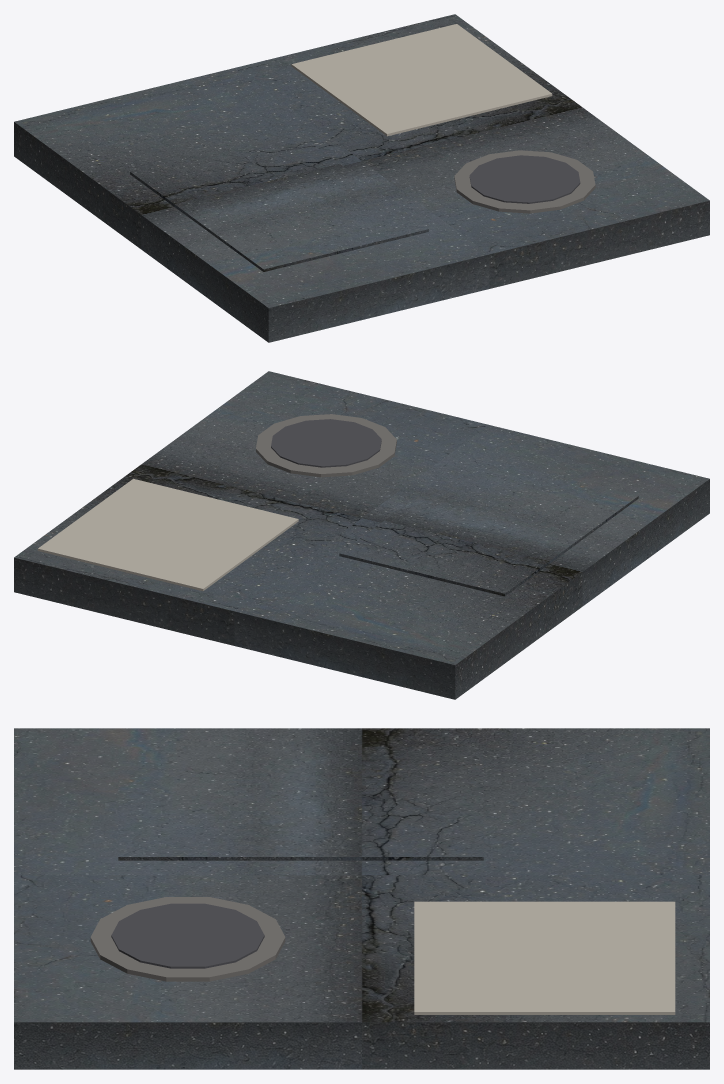
File: env_street_slab_c.glb
3 renders of one model, top to bottom at view 1: azimuth 30°, elevation 25°; view 2: azimuth 150°, elevation 25°; view 3: azimuth 270°, elevation 25°, orthographic. The views are drawn at different scales.
Visible parts, largest first — view 1: env_street_slab_c; view 2: env_street_slab_c; view 3: env_street_slab_c.
Part boxes in pixels (<box>): env_street_slab_c: <box>14,14,709,342</box>; env_street_slab_c: <box>14,371,709,699</box>; env_street_slab_c: <box>14,728,709,1069</box>.
Size of the model in its own units: 2 by 0.17 by 2.
Materials: 5 (2 with a texture image).
